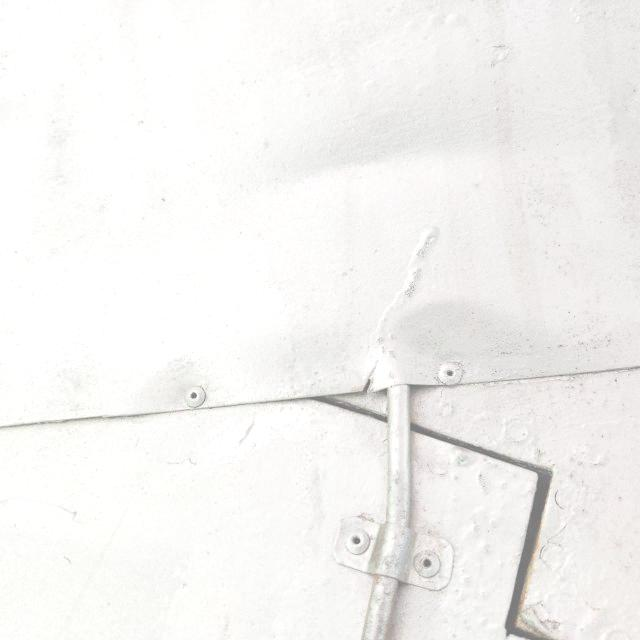crack: (343, 356, 388, 412)
